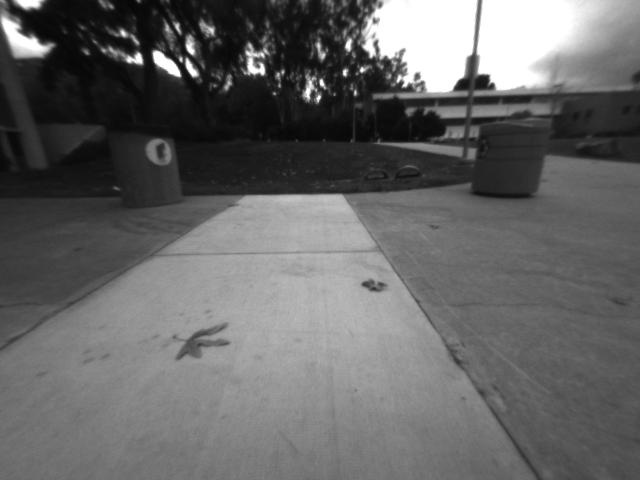trashcan: (111, 122, 186, 204), (473, 121, 543, 197)
